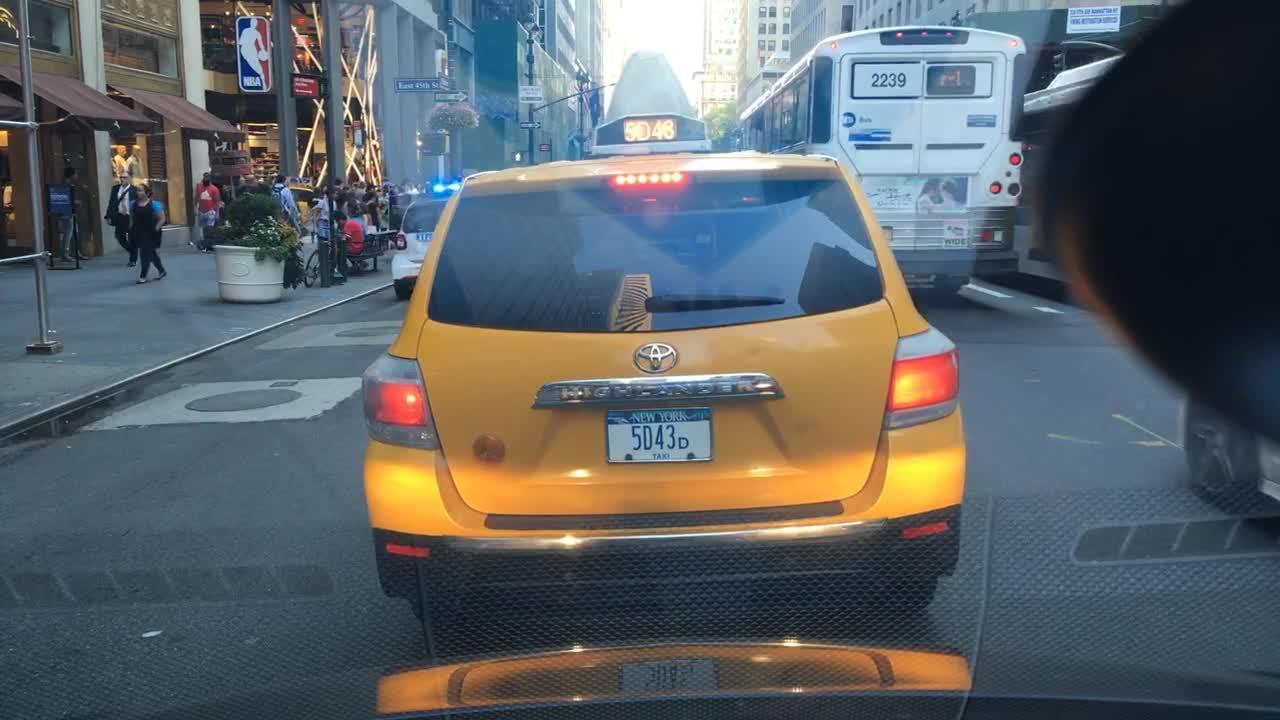Toyota: (620, 333, 693, 379)
